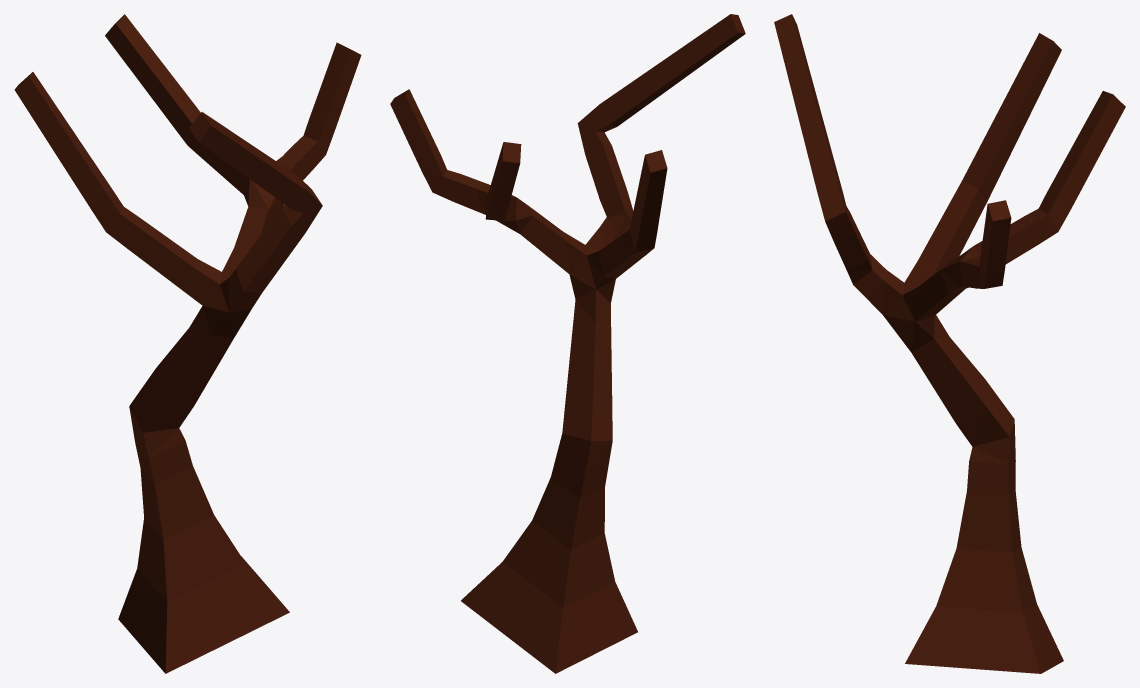
Rendered from DesertTree2.fbx.
3 views of the same model, side by side, from view 1: azimuth 30°, elevation 25°; view 2: azimuth 150°, elevation 25°; view 3: azimuth 270°, elevation 25° (orthographic). The views are drawn at different scales.
Parts seen in each view (by area): view 1: deserttree2; view 2: deserttree2; view 3: deserttree2.
Part boxes in pixels (bbox=[...]): deserttree2: bbox=[14, 14, 361, 673]; deserttree2: bbox=[390, 14, 745, 673]; deserttree2: bbox=[774, 14, 1125, 673].
Size of the model in its own units: 375 by 694 by 356.
